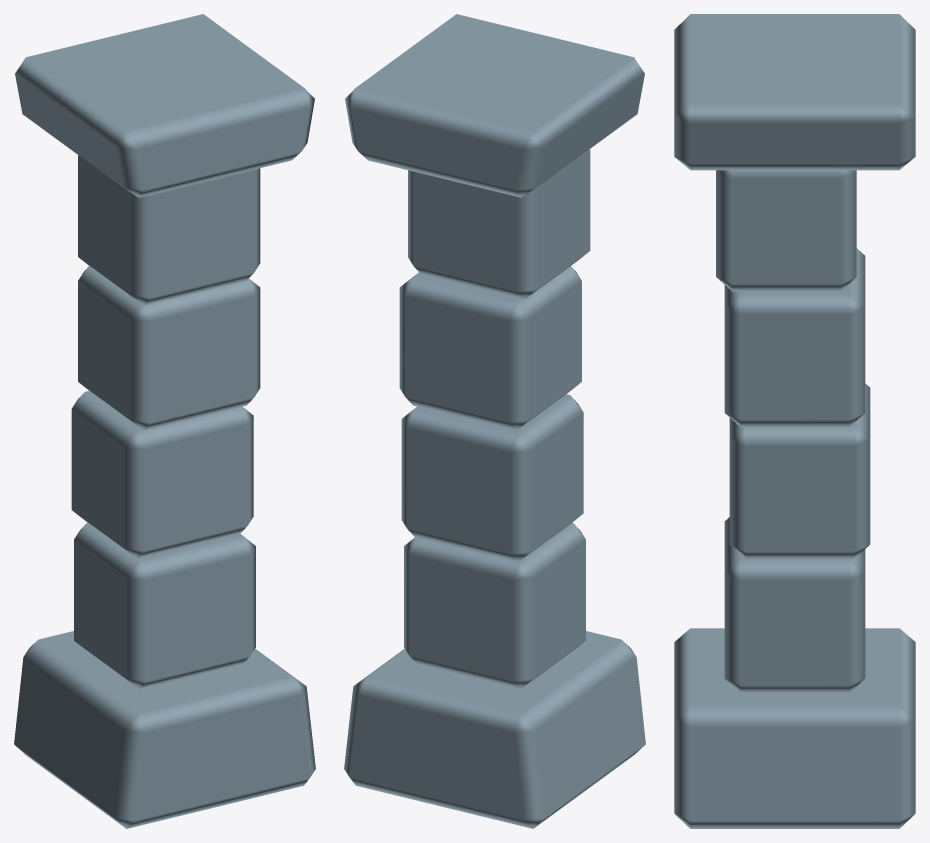
The model's file is pillar.fbx.
3 renders of one model, left to right at view 1: azimuth 30°, elevation 25°; view 2: azimuth 150°, elevation 25°; view 3: azimuth 270°, elevation 25°, orthographic. The views are drawn at different scales.
Parts seen in each view (by area): view 1: Cube.035; view 2: Cube.035; view 3: Cube.035.
Part boxes in pixels (left/top/right/bottom): Cube.035: left=14, top=14, right=315, bottom=828; Cube.035: left=344, top=14, right=645, bottom=828; Cube.035: left=674, top=14, right=915, bottom=828.
Size of the model in its own units: 0.6 by 1.99 by 0.6.
